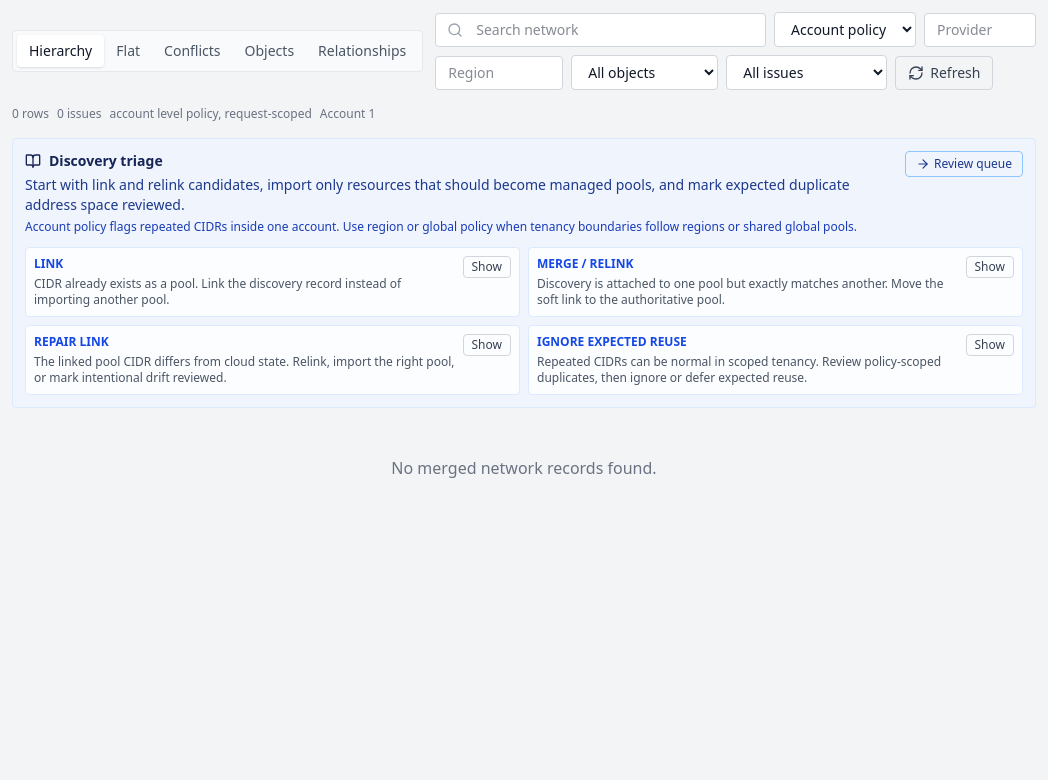
Test: NetworkTab objects mode › hides the delete action without discovery:update
Click the button "Objects". click: (269, 51)
box: [233,35,306,67]
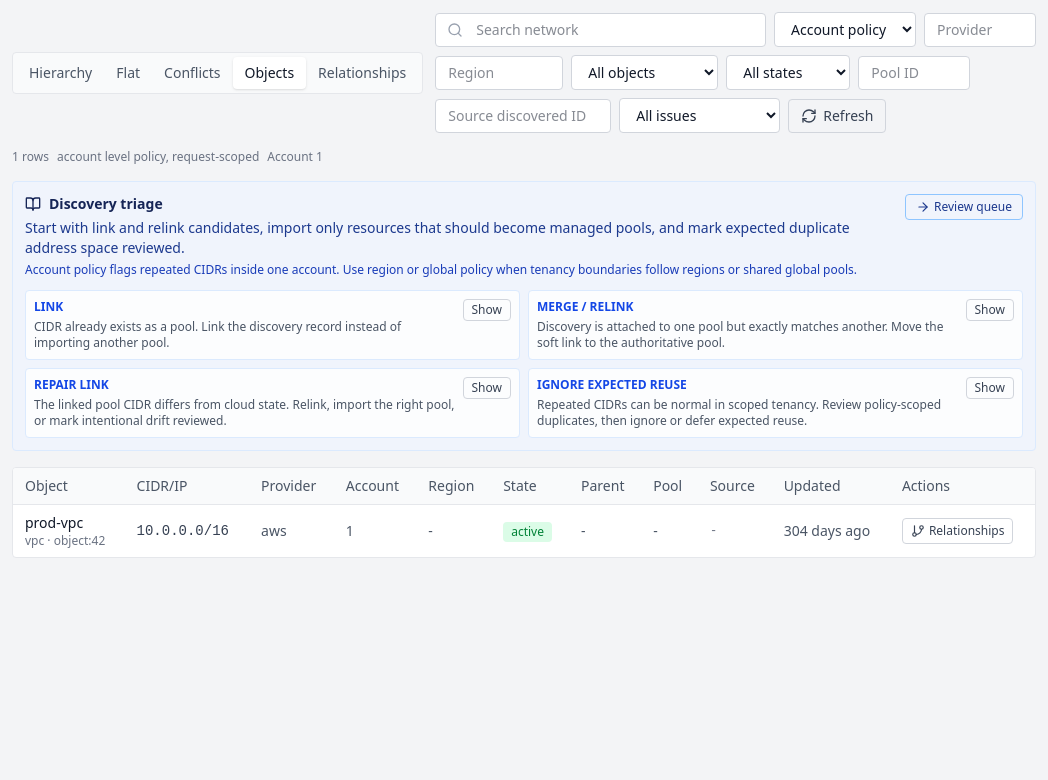
Expected: the text "prod-vpc" is shown, [25,513,83,532]
